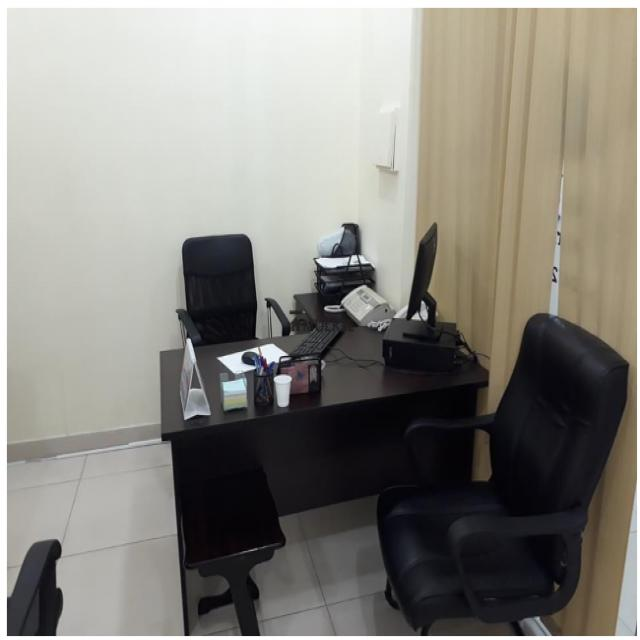chair: (398, 327, 634, 572), (169, 223, 280, 343)
computer: (393, 204, 470, 374)
desk: (159, 324, 476, 448)
